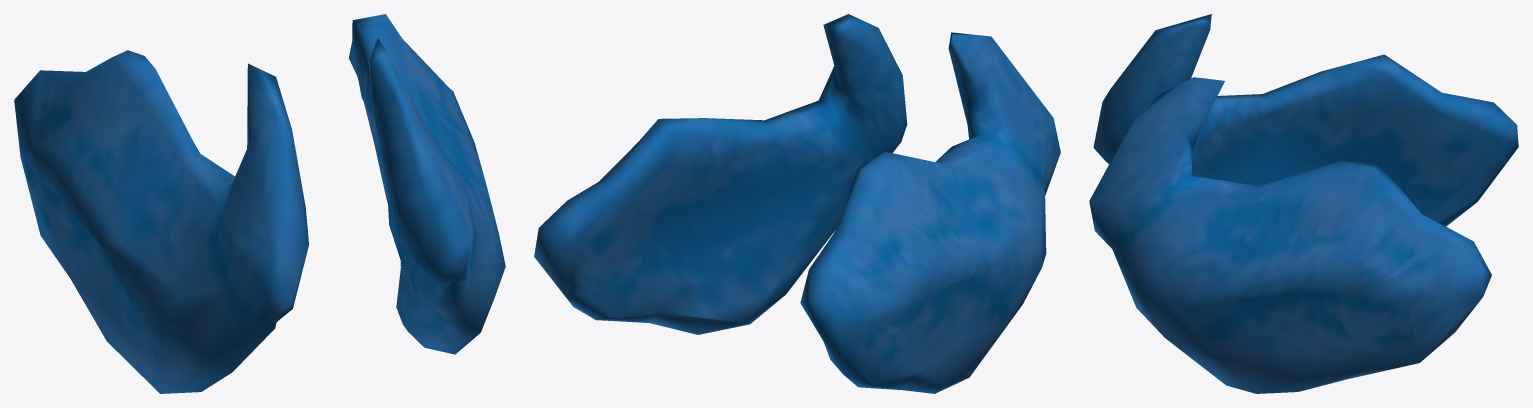
The model's file is Laryngeal_Cartilages_Arytenoids.glb.
3 renders of one model, left to right at view 1: azimuth 30°, elevation 25°; view 2: azimuth 150°, elevation 25°; view 3: azimuth 270°, elevation 25°, orthographic. The views are drawn at different scales.
Visible parts, largest first — view 1: laryngeal_cartilages_arytenoids.001; view 2: laryngeal_cartilages_arytenoids.001; view 3: laryngeal_cartilages_arytenoids.001.
Part boxes in pixels (bbox=[...]): laryngeal_cartilages_arytenoids.001: bbox=[14, 14, 505, 393]; laryngeal_cartilages_arytenoids.001: bbox=[534, 14, 1060, 393]; laryngeal_cartilages_arytenoids.001: bbox=[1089, 14, 1518, 393].
Bounding box in the file's own units: 0.0475 × 0.0395 × 0.0534.
Materials: 1 (1 with a texture image).
